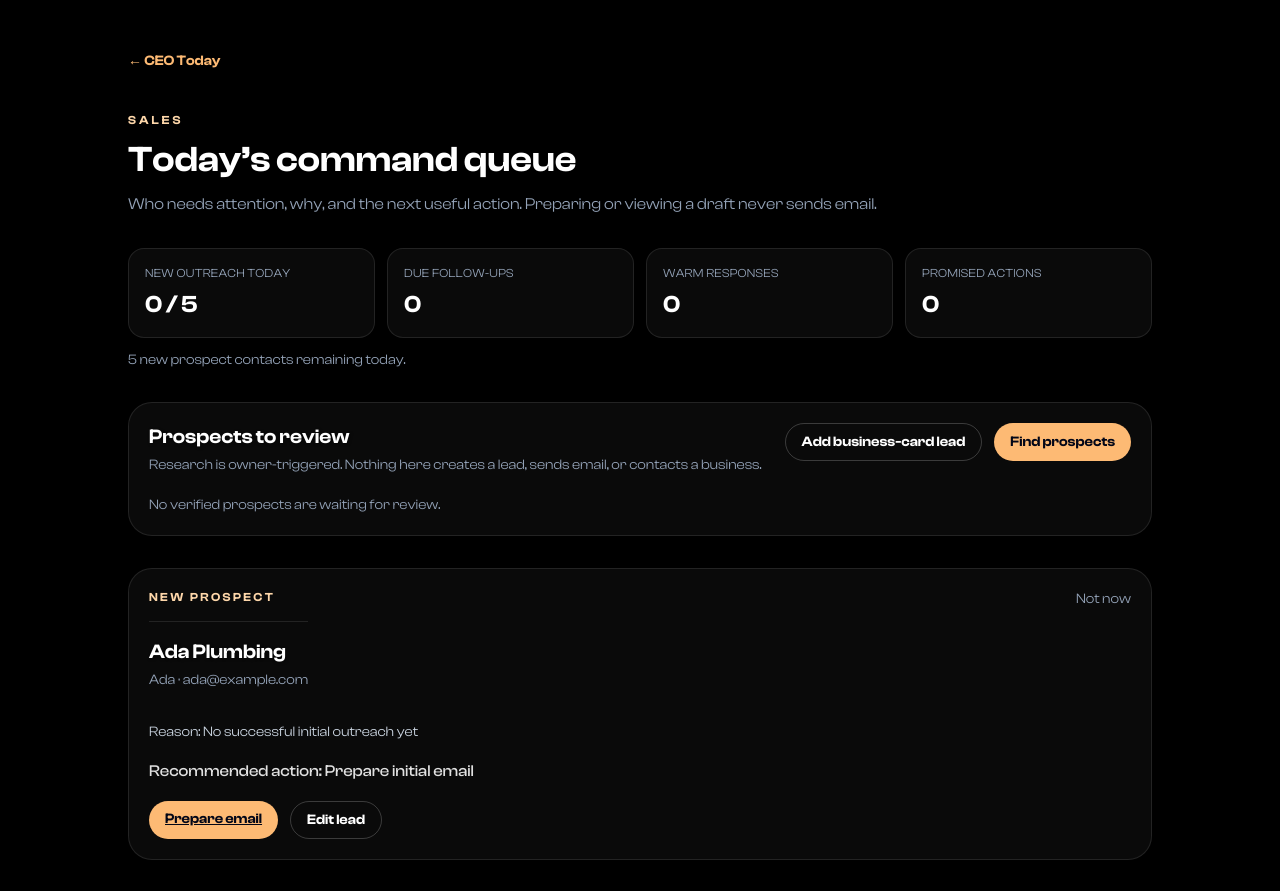
Test: SalesPage › keeps transient owner selection separate from durable prospects until Investigate or Skip is clicked
Click the button "Find prospects" at point(1063, 442), box [994,423,1131,461]
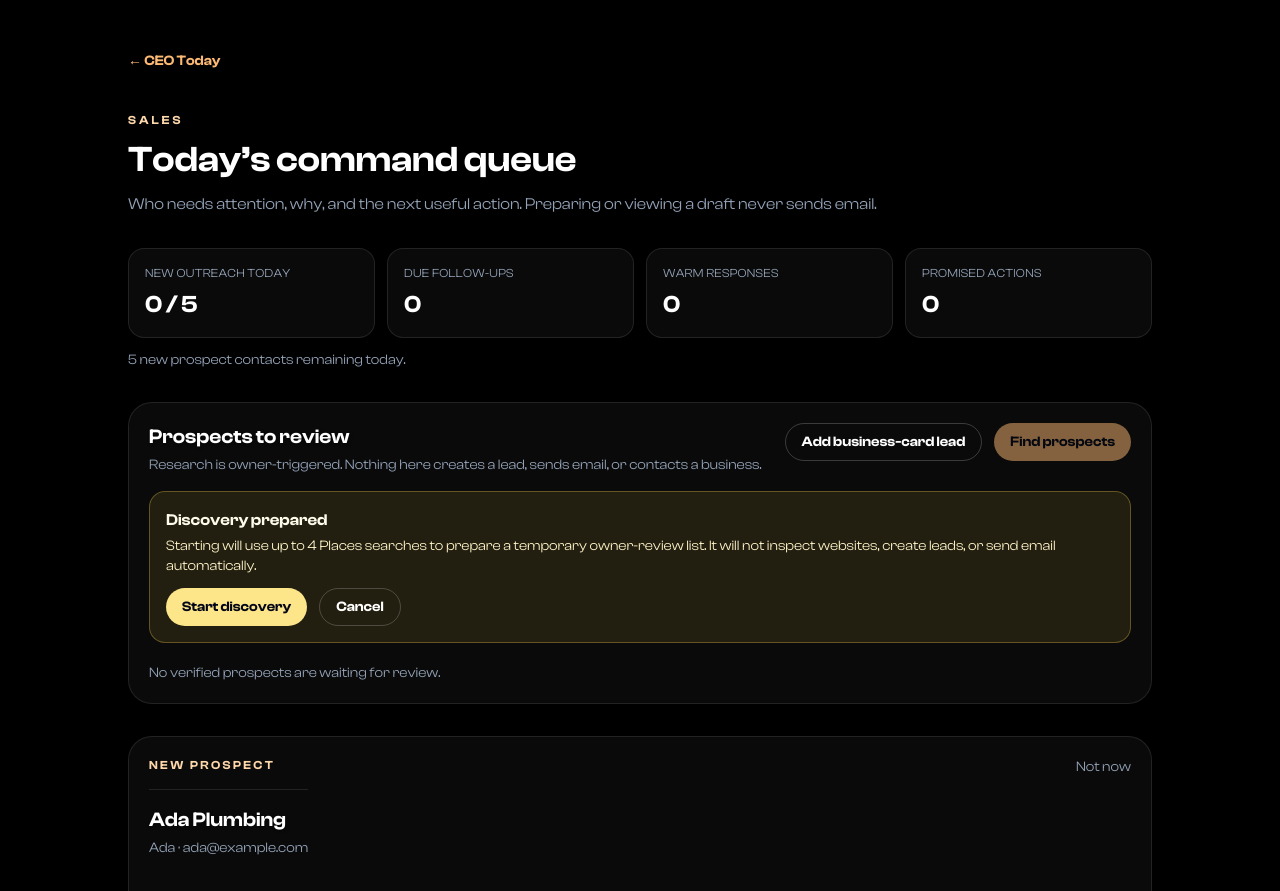
Click the button "Start discovery" at point(237, 607), box [166,588,307,626]
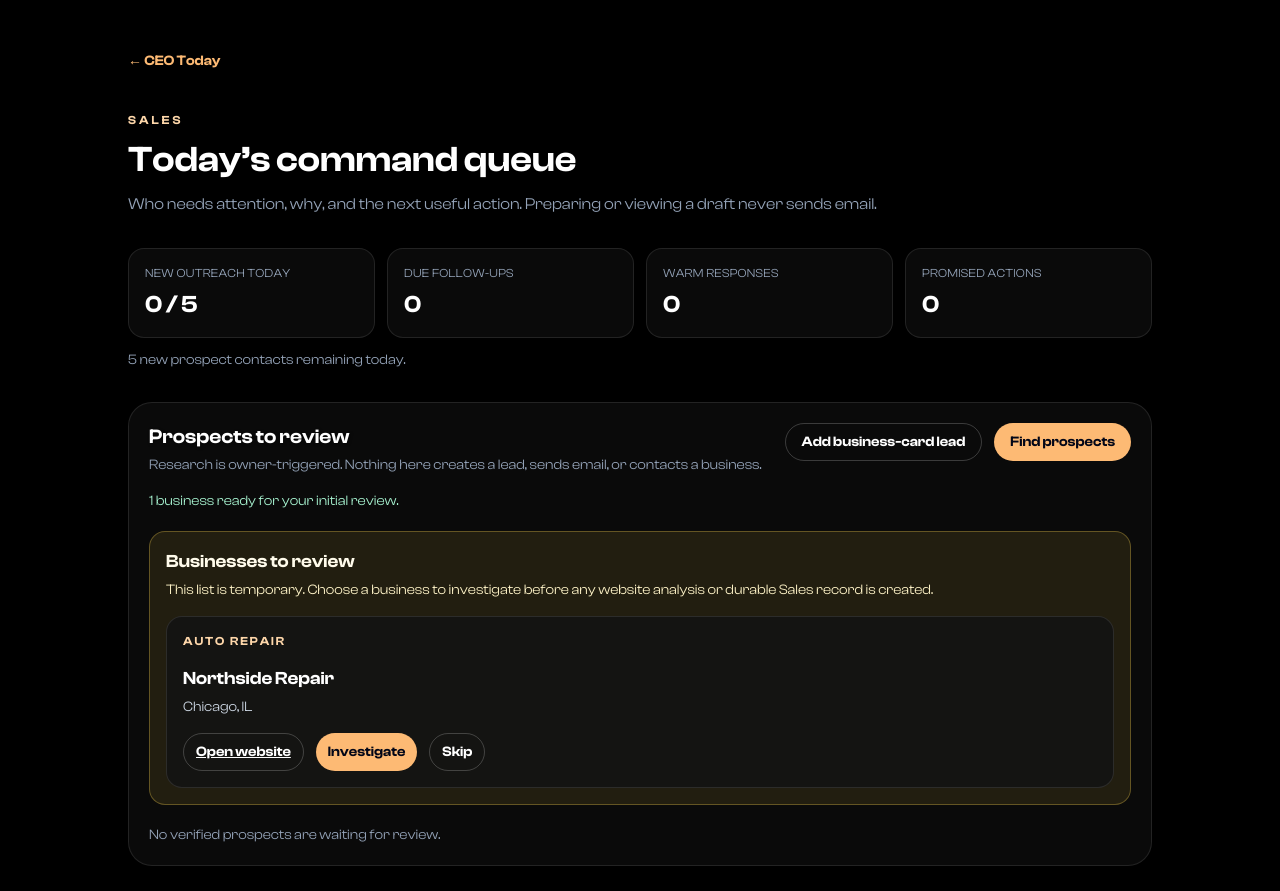
Expected: the button "Investigate" is shown
Click the button "Investigate" at point(367, 752), box [316,733,417,771]
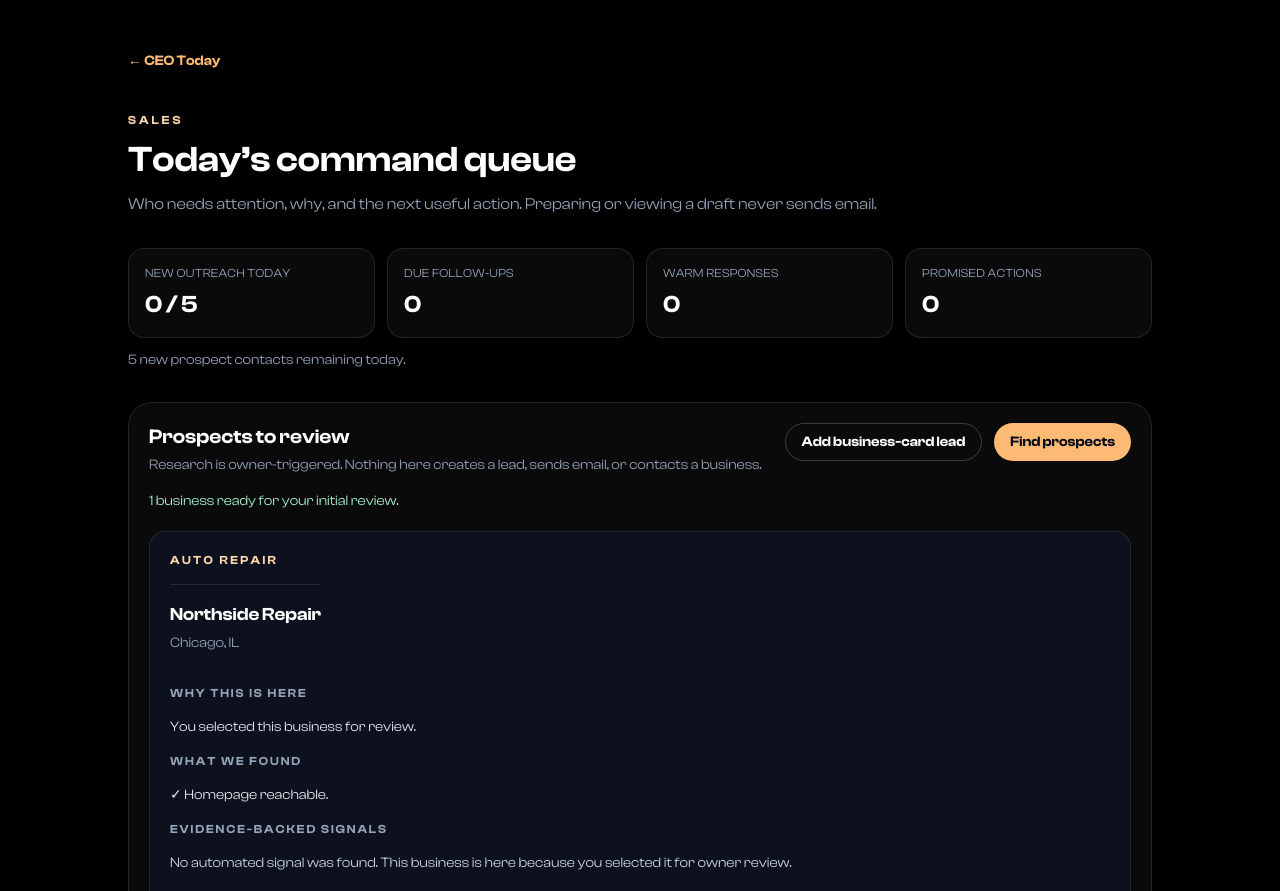
Expected: the text "No automated signal was found. This business is here because you selected it for owner review." is shown, [170,855,792,871]
